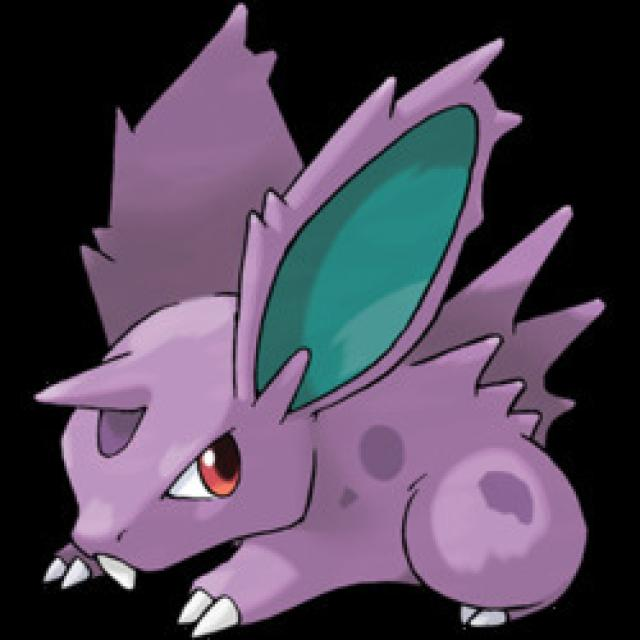Nidorino: (34, 50, 608, 640)
